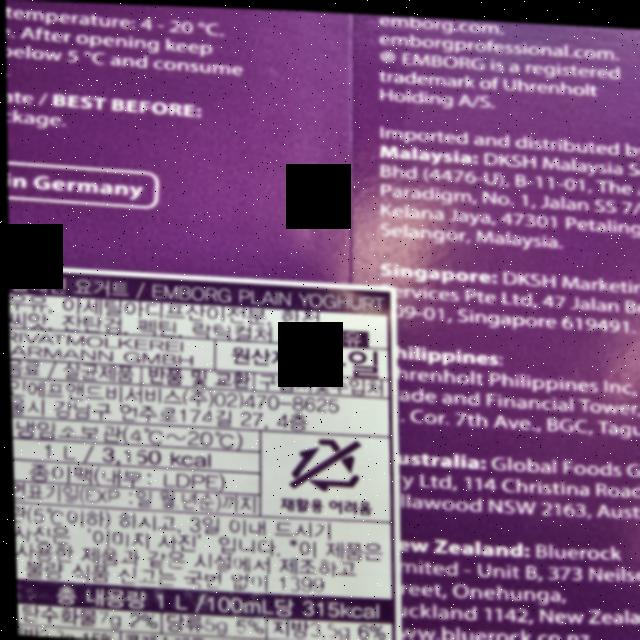NoRecycle: (280, 432, 360, 492)
